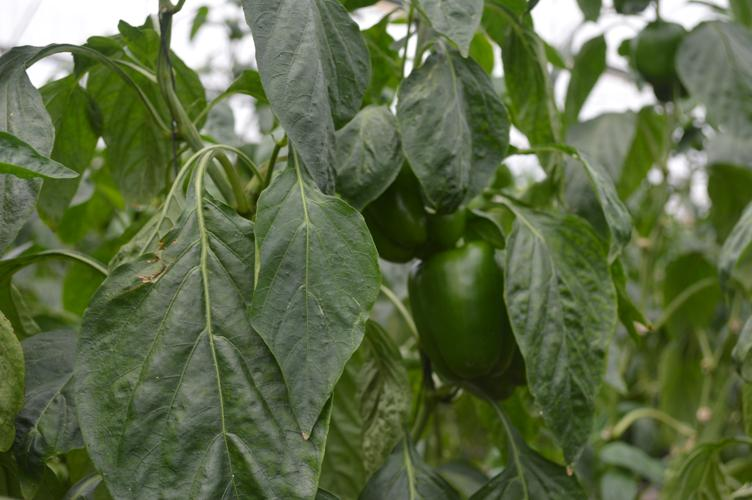BellPepper: (404, 247, 510, 379), (367, 176, 466, 261)
